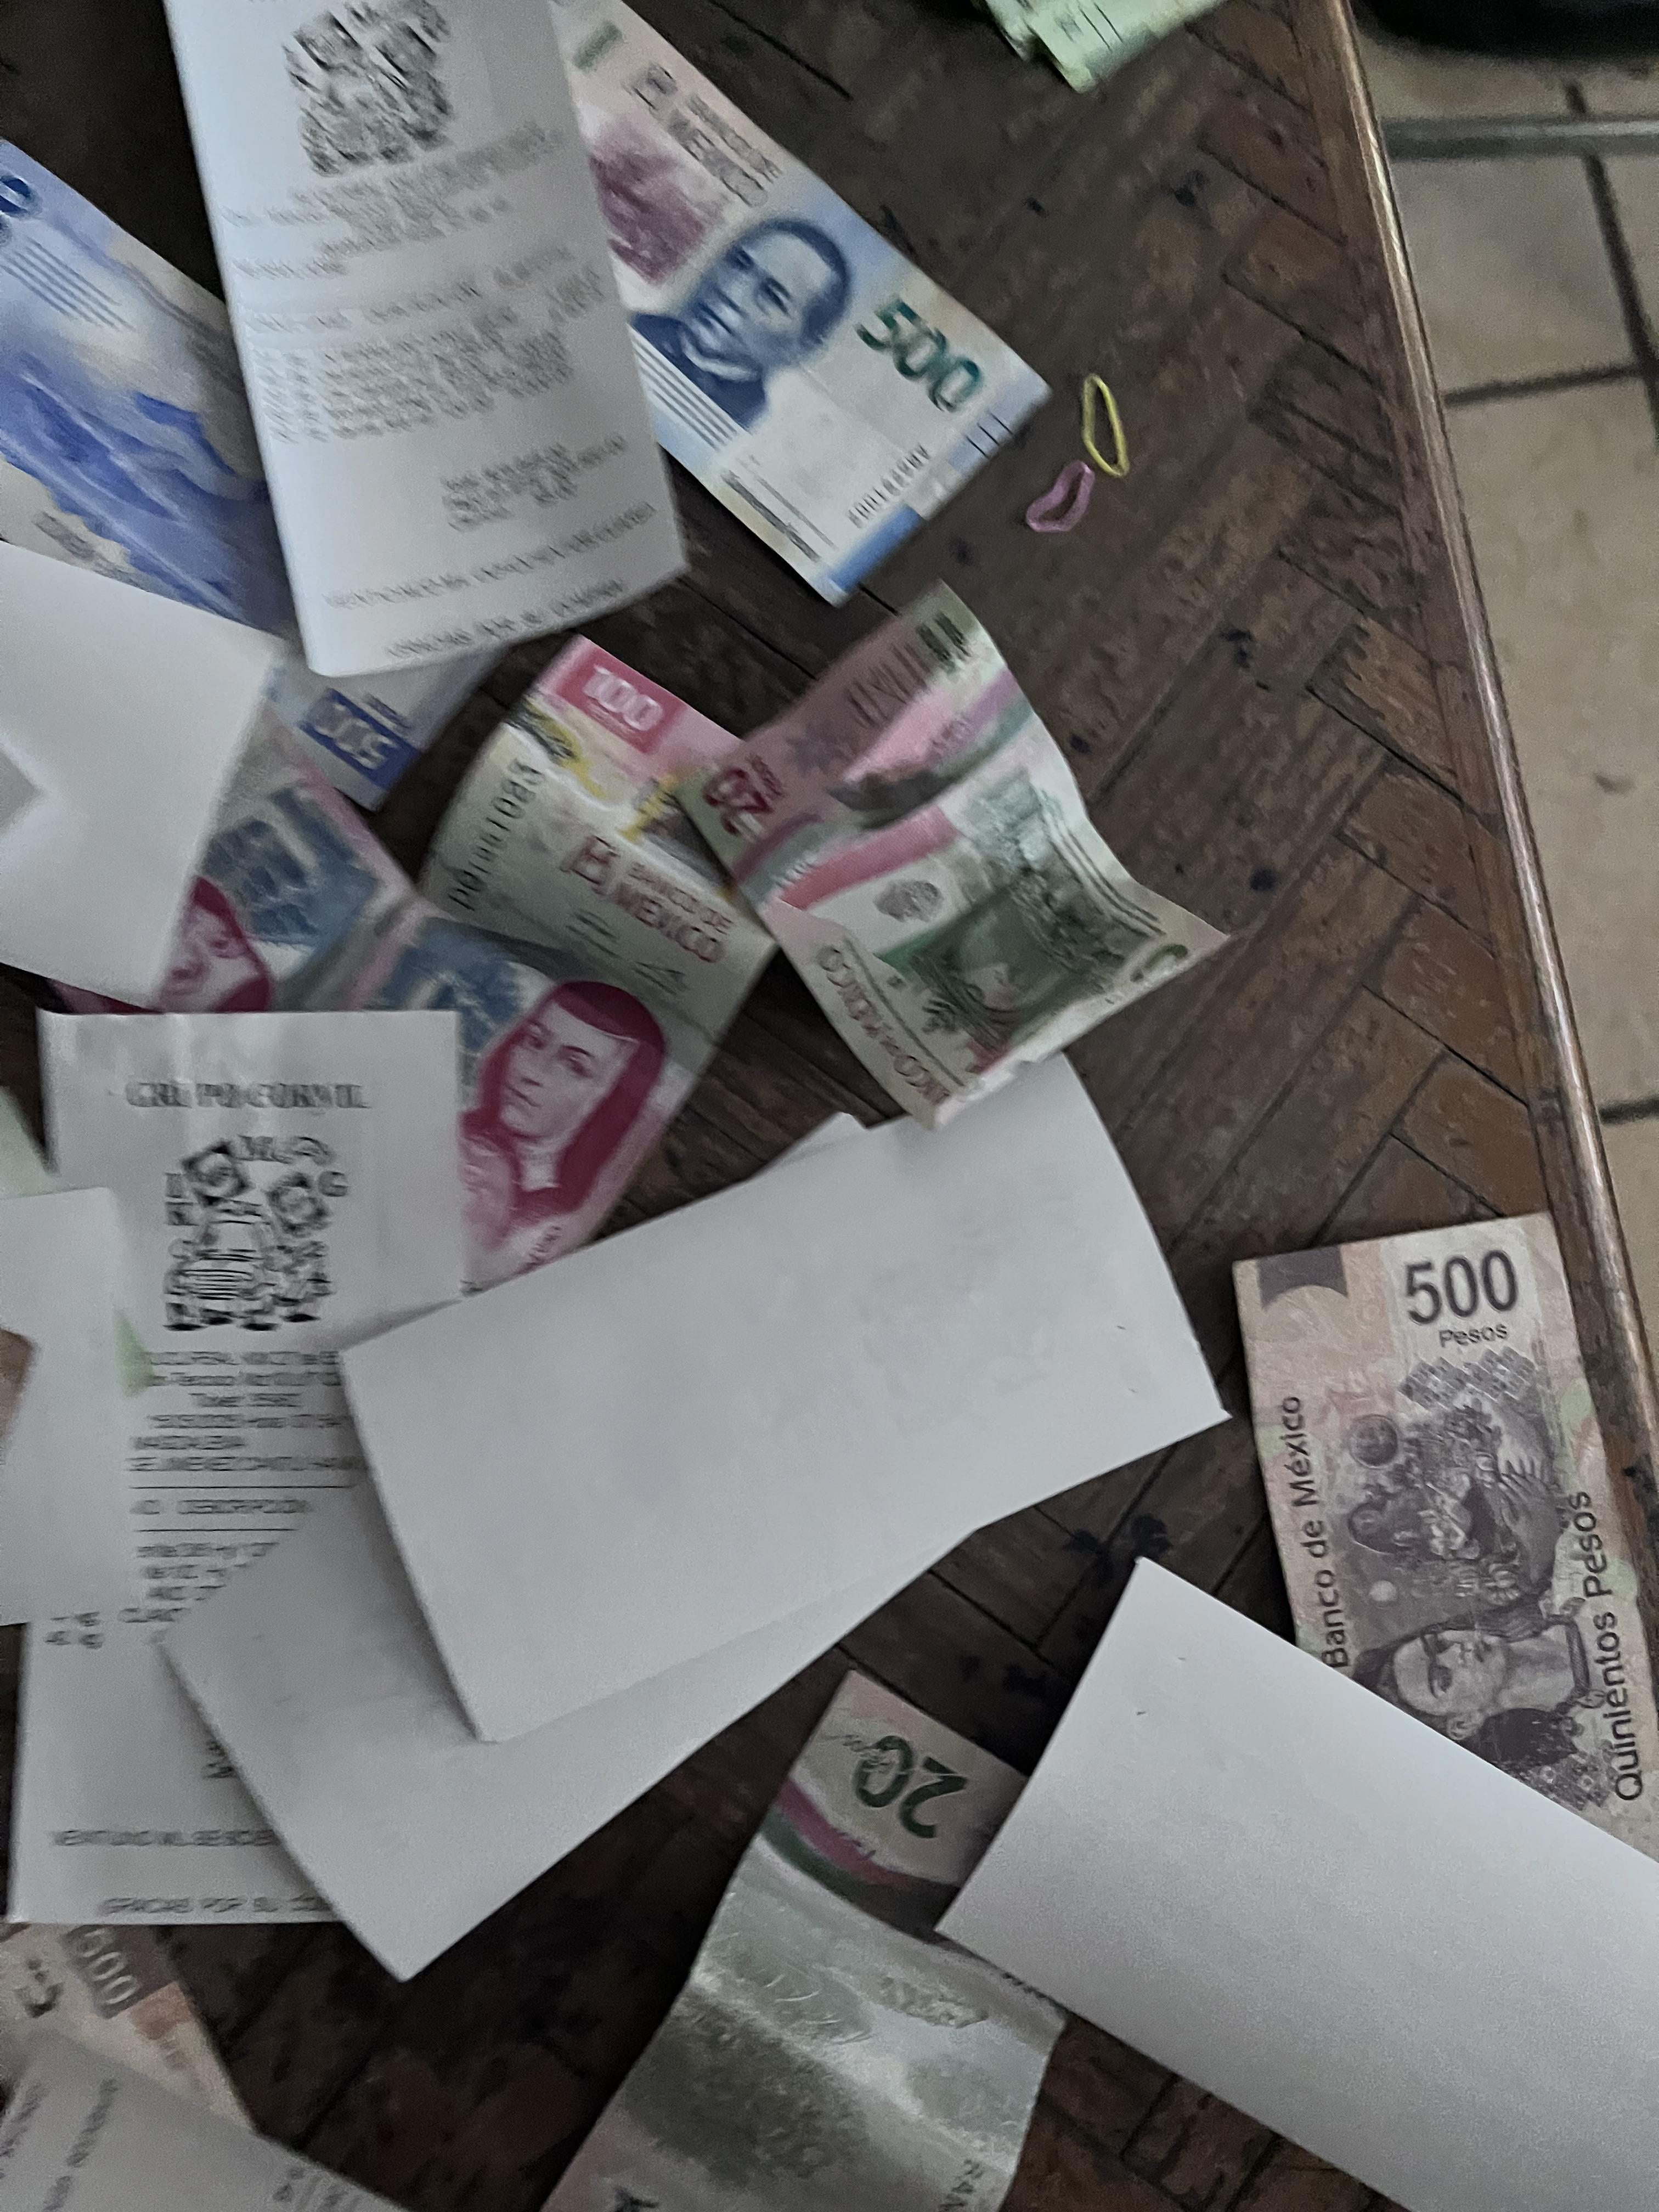100: (329, 590, 805, 1339)
20: (493, 1641, 1122, 2212), (622, 587, 1232, 1127)
500: (1194, 1177, 1659, 1871)
500 nuevo: (0, 118, 540, 831), (441, 0, 1042, 620)
